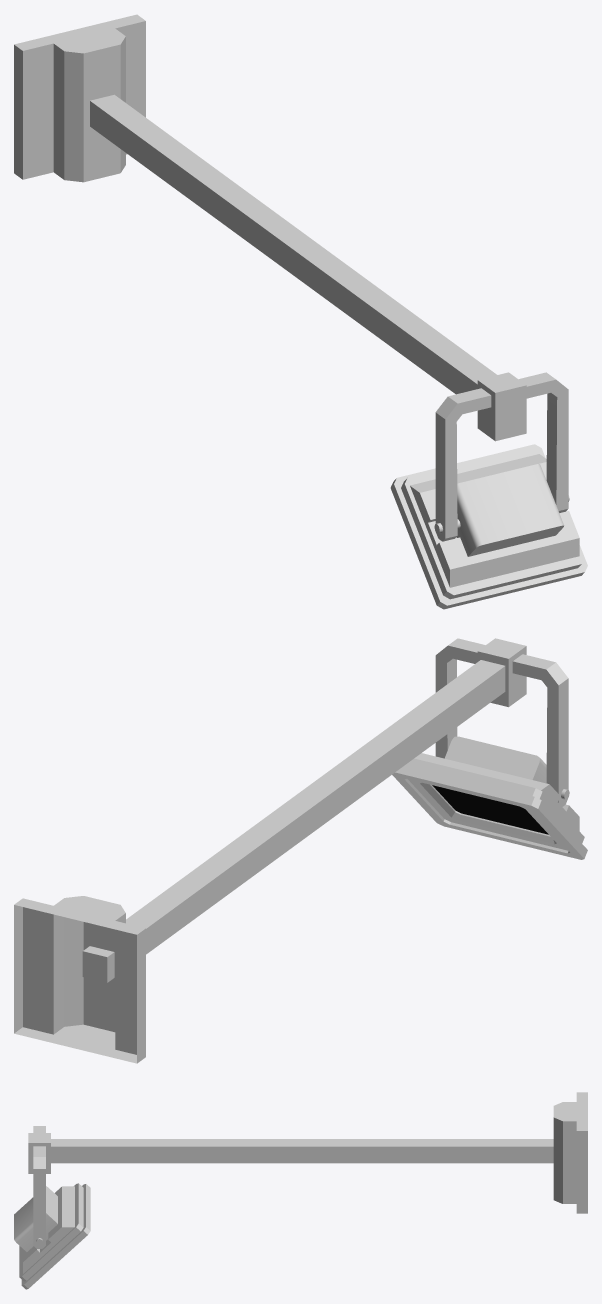
Rendered from KB3D_NSF_PropLamp_C.fbx.
3 views of the same model, one above another, from view 1: azimuth 30°, elevation 25°; view 2: azimuth 150°, elevation 25°; view 3: azimuth 270°, elevation 25° (orthographic). The views are drawn at different scales.
Parts seen in each view (by area): view 1: KB3D_NSF_PropLamp_C_Main; view 2: KB3D_NSF_PropLamp_C_Main; view 3: KB3D_NSF_PropLamp_C_Main.
Boxes of the visible parts, x1,y1,x2,y2 form: KB3D_NSF_PropLamp_C_Main: (14, 14, 587, 609); KB3D_NSF_PropLamp_C_Main: (14, 638, 587, 1063); KB3D_NSF_PropLamp_C_Main: (14, 1092, 587, 1289).
Size of the model in its own units: 30 by 47.21 by 157.
